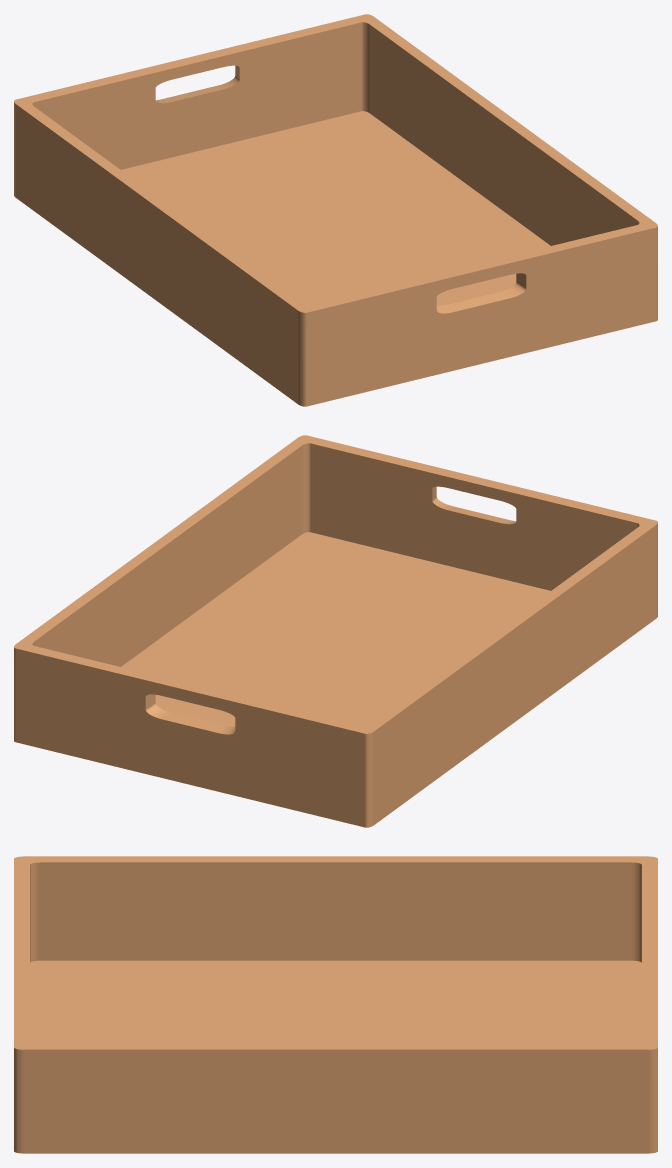
The model's file is feedingBox_Empty.fbx.
The picture shows the model from 3 angles, top to bottom: view 1: azimuth 30°, elevation 25°; view 2: azimuth 150°, elevation 25°; view 3: azimuth 270°, elevation 25°; orthographic projection. The views are drawn at different scales.
Parts seen in each view (by area): view 1: Box_Material_0; view 2: Box_Material_0; view 3: Box_Material_0.
Part boxes in pixels (x1,y1,x2,y2): Box_Material_0: [14, 14, 657, 406]; Box_Material_0: [14, 435, 657, 827]; Box_Material_0: [14, 856, 657, 1153].
Size of the model in its own units: 154 by 38.59 by 217.
